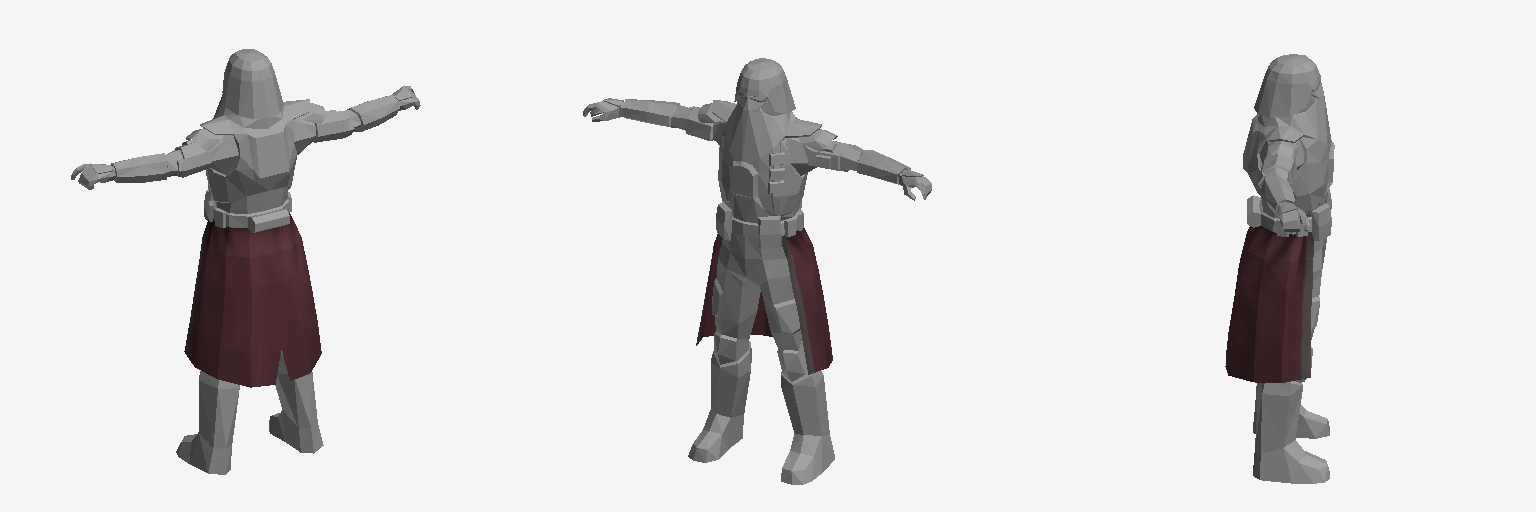
3 views of the same model, side by side, from view 1: azimuth 30°, elevation 25°; view 2: azimuth 150°, elevation 25°; view 3: azimuth 270°, elevation 25° (orthographic).
Bounding box in the file's own units: 1.86 × 2.05 × 0.5119.
2 materials, 1 textured.